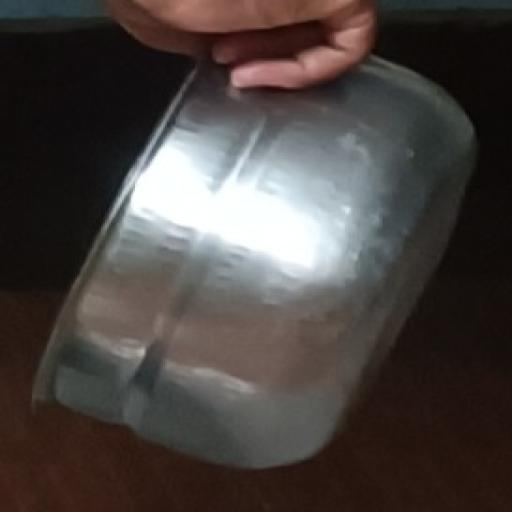vessel: (36, 55, 476, 466)
